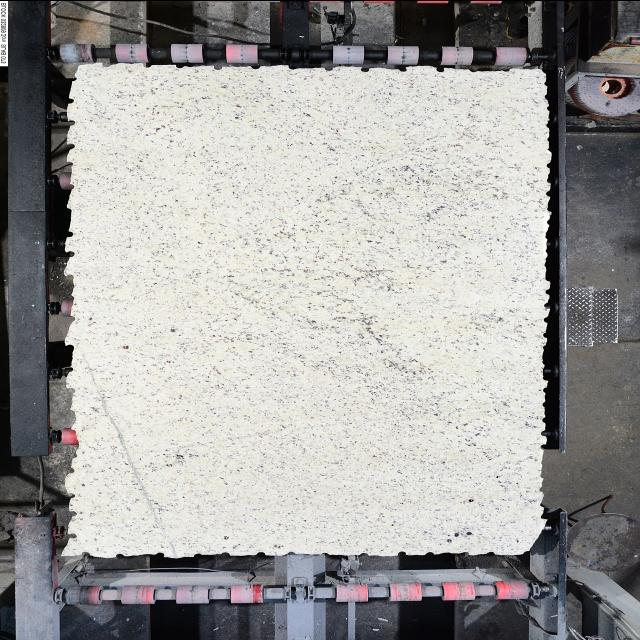chapa: (68, 62, 551, 556)
veio: (66, 532, 78, 540)
